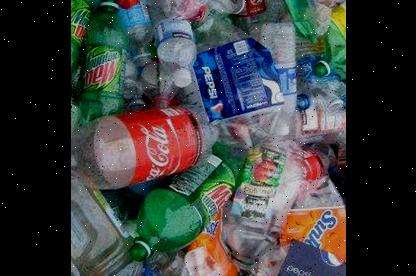Plastic Bottle: (70, 106, 208, 194), (70, 166, 150, 276), (79, 0, 126, 123)
